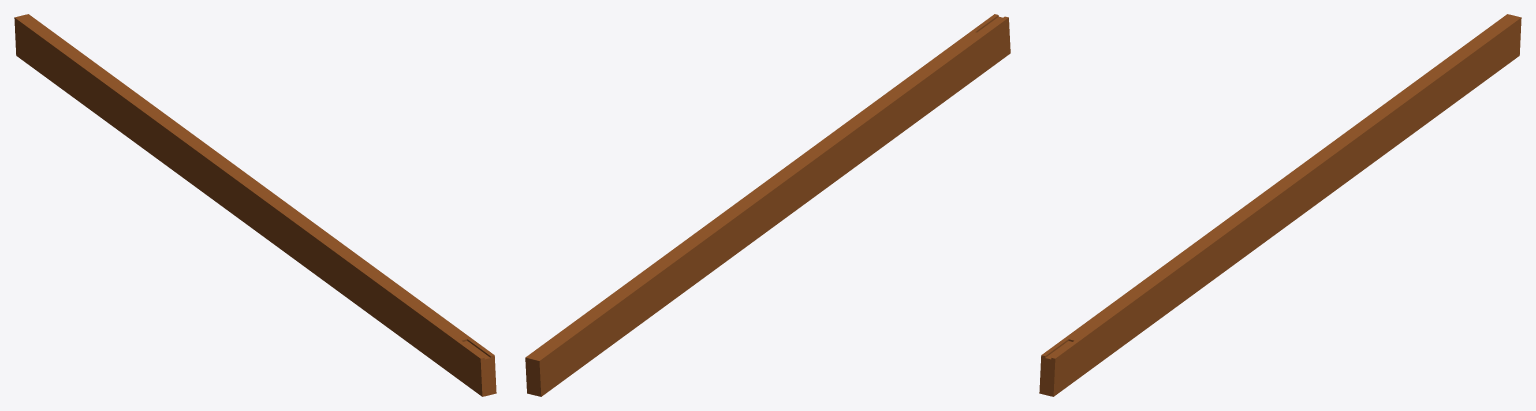
Rendered from dachsparren_repeat.FBX.
3 views of the same model, side by side, from view 1: azimuth 30°, elevation 25°; view 2: azimuth 150°, elevation 25°; view 3: azimuth 330°, elevation 25° (orthographic).
Visible parts, largest first — view 1: dachsparren_repeat; view 2: dachsparren_repeat; view 3: dachsparren_repeat.
Part boxes in pixels (box(x1,y1,x2,y2)): dachsparren_repeat: box(14, 14, 496, 396); dachsparren_repeat: box(525, 14, 1010, 396); dachsparren_repeat: box(1039, 14, 1521, 396).
Size of the model in its own units: 0.7004 by 1.75 by 40.15.
